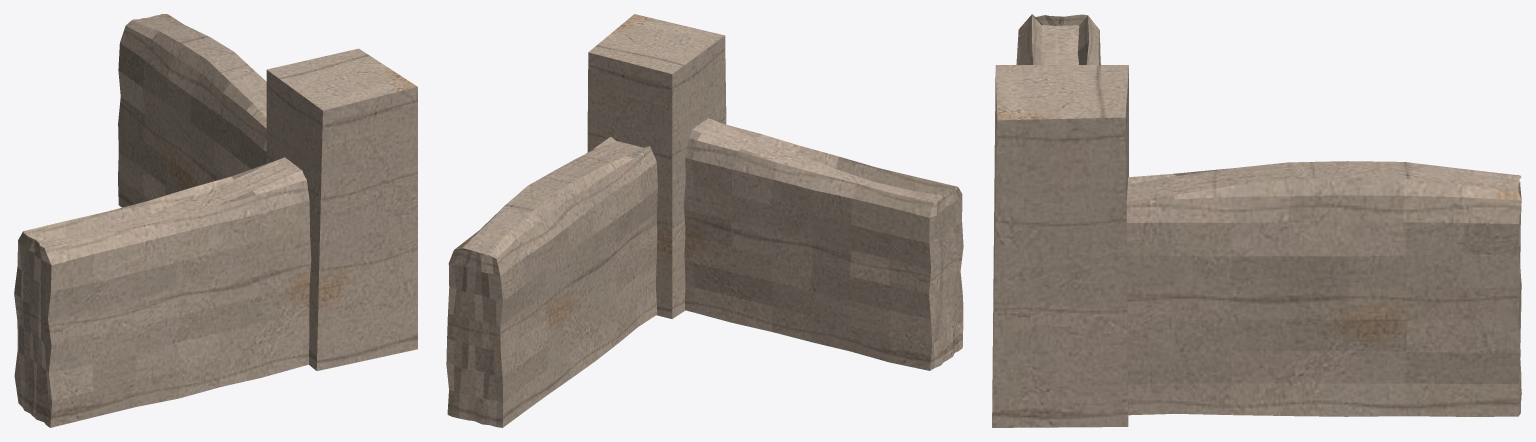
The model's file is corner.glb.
3 renders of one model, left to right at view 1: azimuth 30°, elevation 25°; view 2: azimuth 150°, elevation 25°; view 3: azimuth 270°, elevation 25°, orthographic. The views are drawn at different scales.
Visible parts, largest first — view 1: corner; view 2: corner; view 3: corner.
Part boxes in pixels (<box>): corner: <box>14,14,417,427</box>; corner: <box>446,14,963,427</box>; corner: <box>992,14,1521,427</box>.
Bounding box in the file's own units: 2.35 × 1.63 × 2.52.
Materials: 1 (1 with a texture image).
